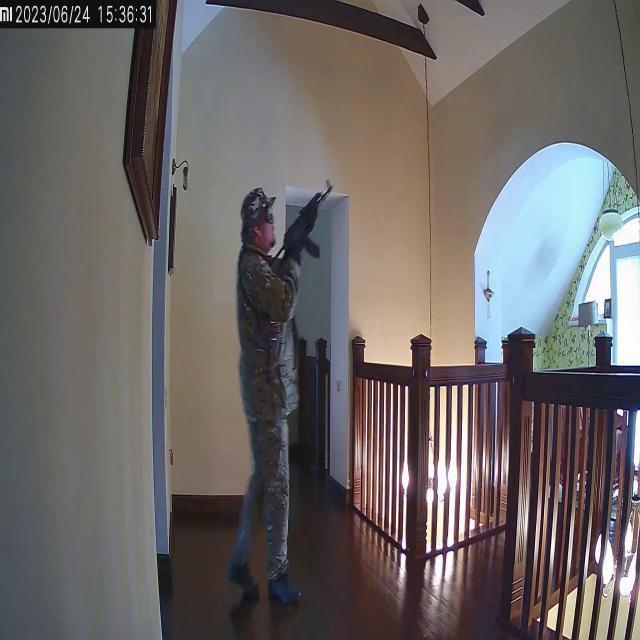pistol: (270, 182, 336, 255)
